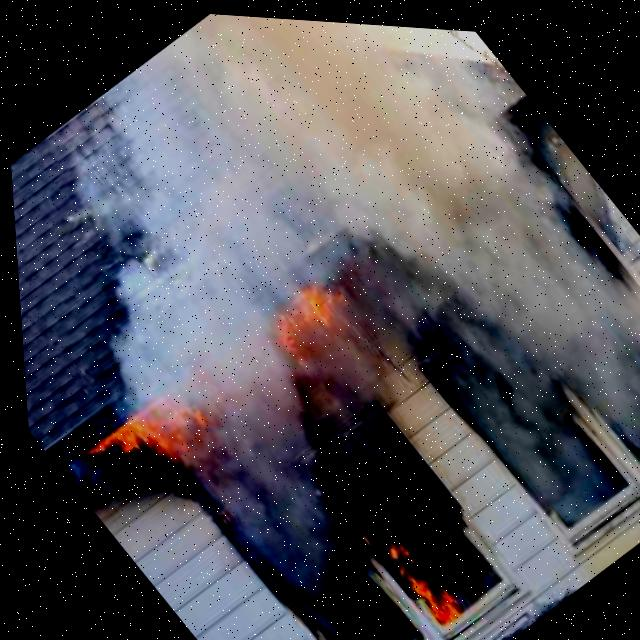Fire: (70, 354, 222, 499), (235, 261, 356, 378), (359, 519, 464, 636)
Smoke: (134, 7, 640, 569), (3, 57, 307, 393), (164, 320, 475, 624)
